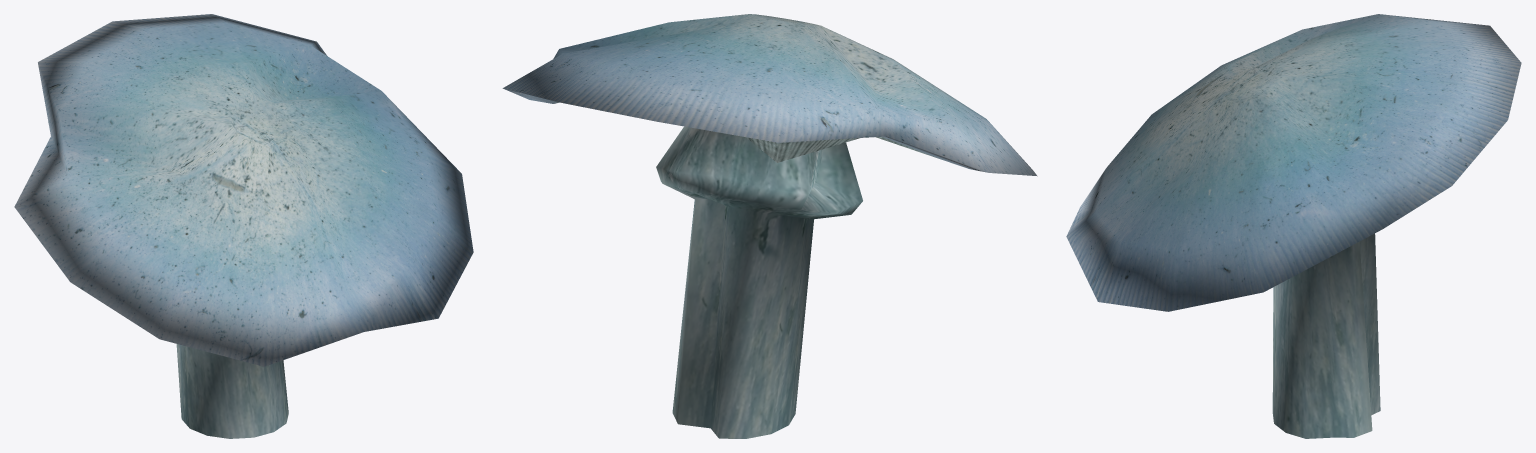
Rendered from mushy2_LOD.FBX.
3 renders of one model, left to right at view 1: azimuth 30°, elevation 25°; view 2: azimuth 150°, elevation 25°; view 3: azimuth 270°, elevation 25°, orthographic. The views are drawn at different scales.
Parts seen in each view (by area): view 1: mushy2_uv001; view 2: mushy2_uv001; view 3: mushy2_uv001.
Boxes of the visible parts, x1=… form: mushy2_uv001: x1=14, y1=14, x2=473, y2=438; mushy2_uv001: x1=502, y1=14, x2=1037, y2=438; mushy2_uv001: x1=1066, y1=14, x2=1521, y2=438.
Size of the model in its own units: 106 by 97.66 by 83.8.
